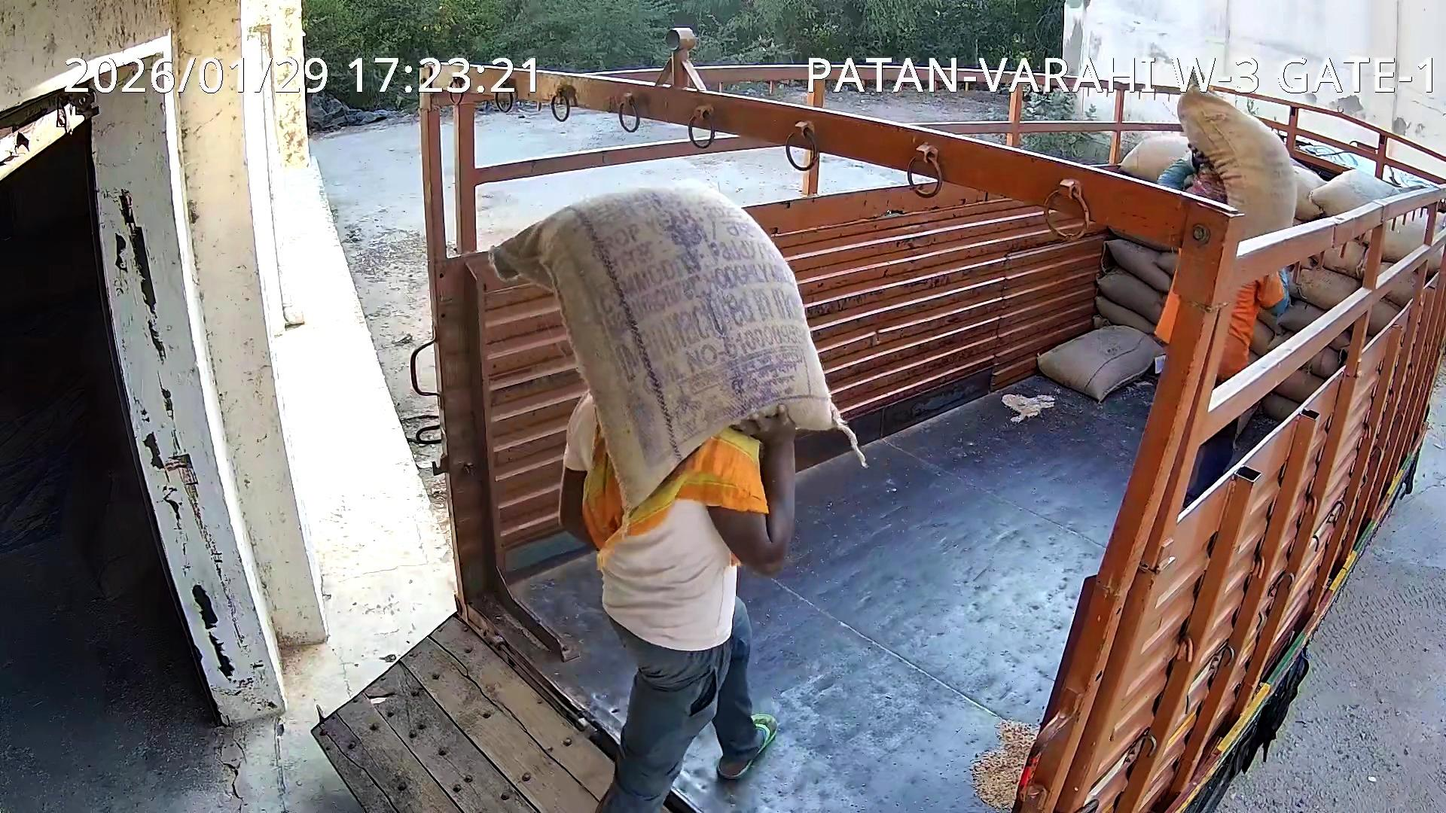Sack: (490, 186, 848, 507), (1177, 88, 1295, 239)
